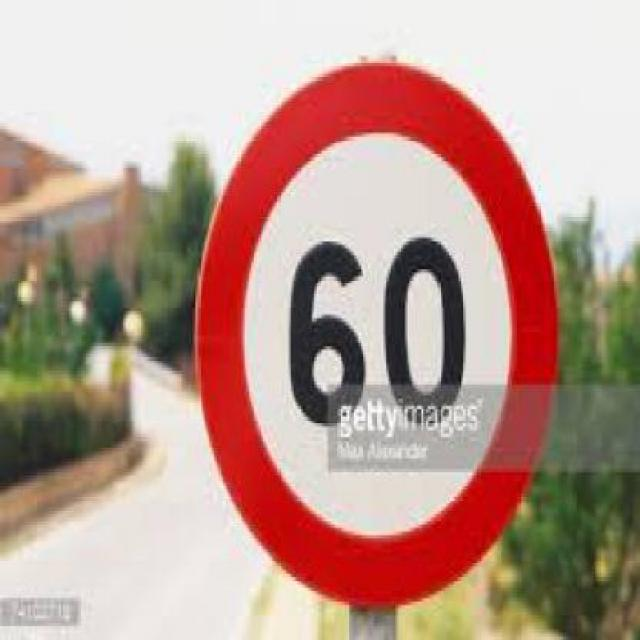Ograniczenie predkosci do 60: (191, 66, 558, 602)
